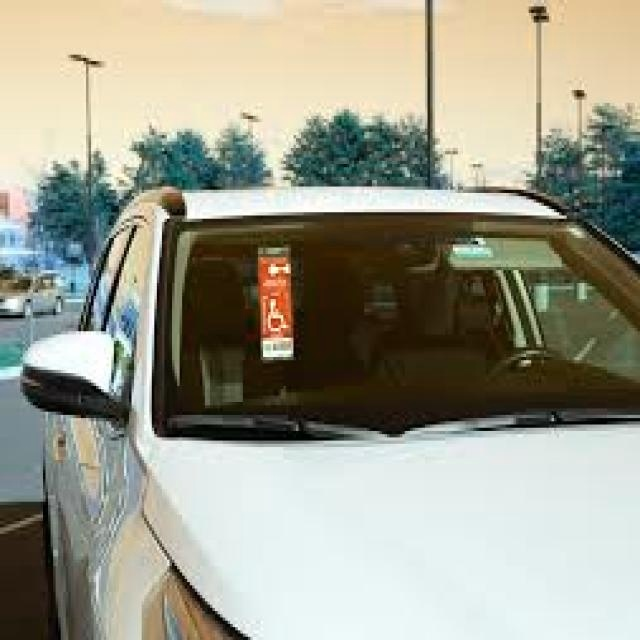ISA: (267, 298, 289, 335)
